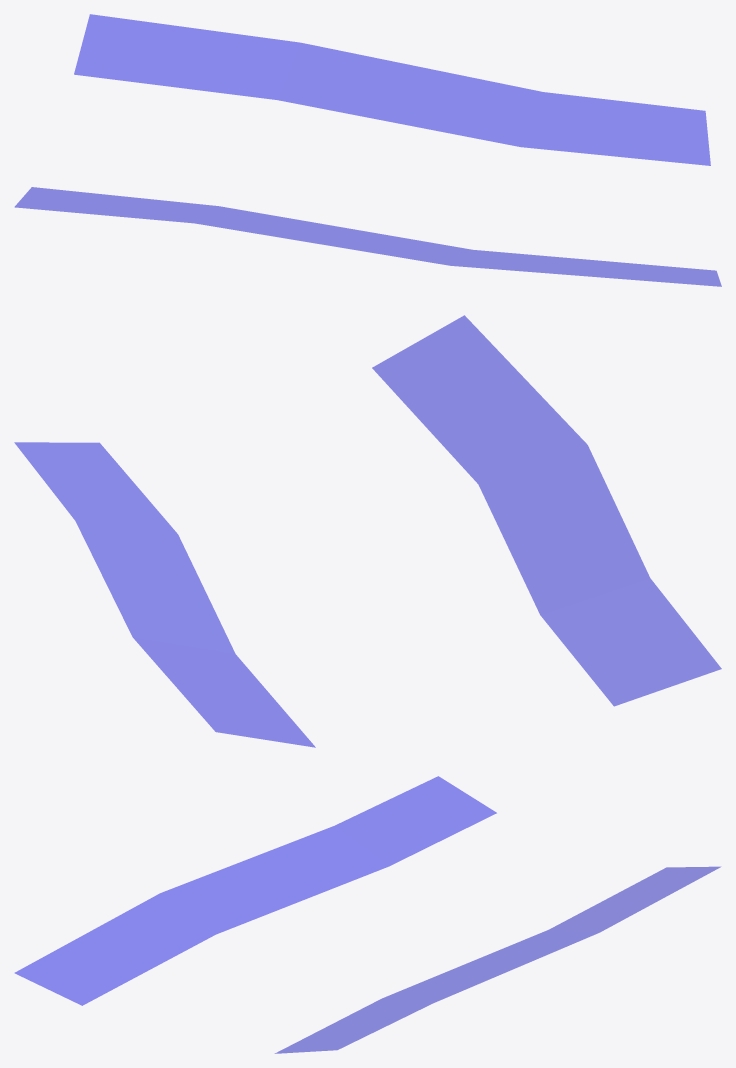
Rendered from track_la_coll_off_03.fbx.
3 renders of one model, top to bottom at view 1: azimuth 30°, elevation 25°; view 2: azimuth 150°, elevation 25°; view 3: azimuth 270°, elevation 25°, orthographic. The views are drawn at different scales.
Visible parts, largest first — view 1: track_la_coll_off_03; view 2: track_la_coll_off_03; view 3: track_la_coll_off_03.
Part boxes in pixels (<box>): track_la_coll_off_03: <box>15,14,721,286</box>; track_la_coll_off_03: <box>14,315,721,747</box>; track_la_coll_off_03: <box>15,776,720,1053</box>.
Size of the model in its own units: 74.12 by 5.17 by 84.63.
